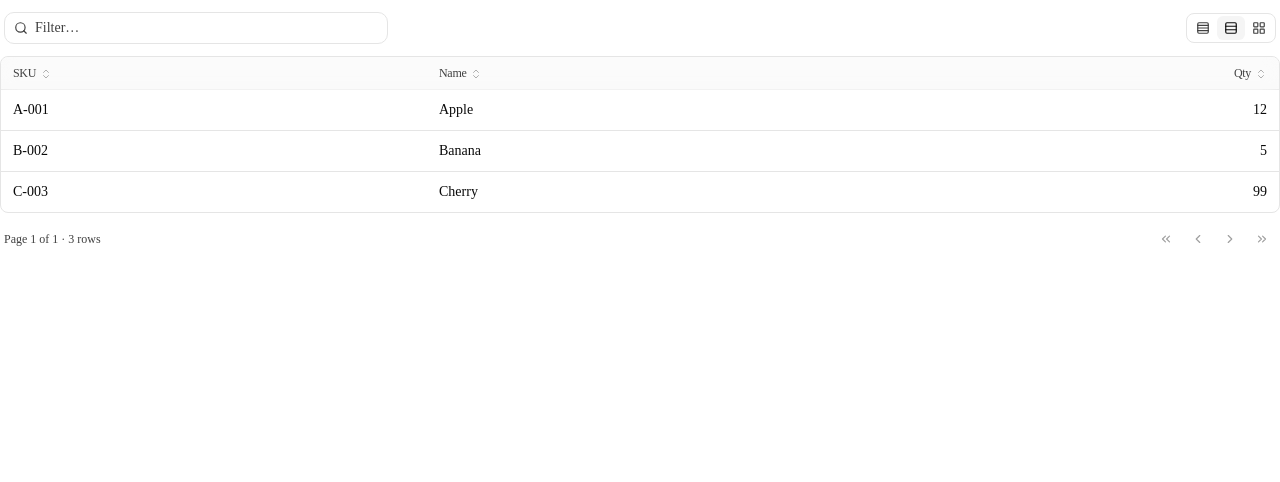
Test: DataTable › a filter that matches nothing does NOT claim the table is empty
The image size is (1280, 482).
In the field named "filter table": coordinates (196, 28) [4, 12, 388, 44], type "zzzzz"
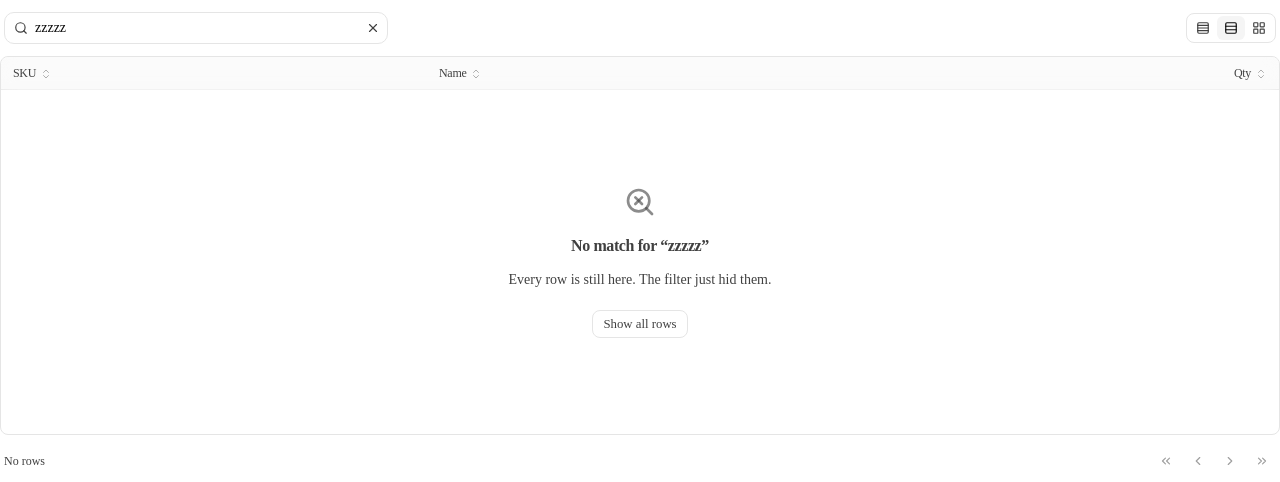
Now the heading "No match for “zzzzz”" is shown, box [571, 234, 709, 258]
